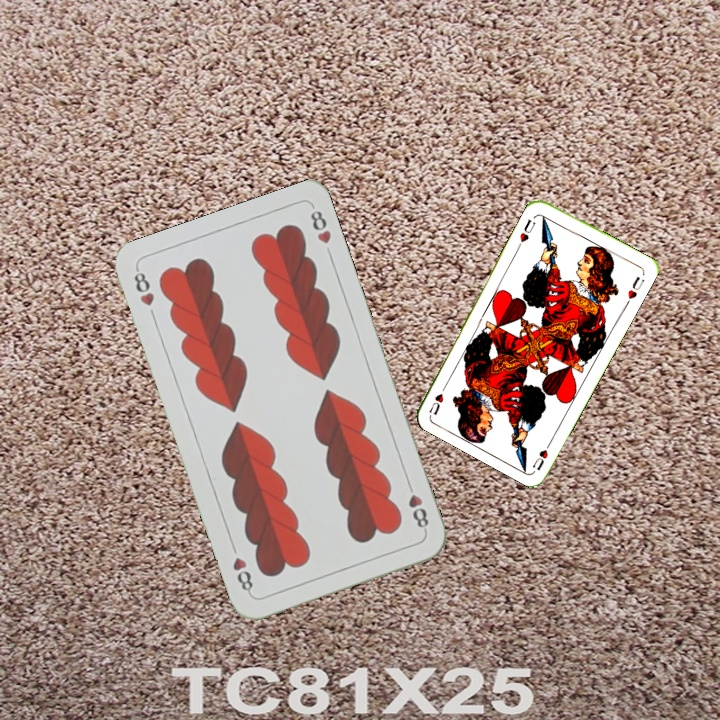H8: (402, 477, 432, 535), (129, 265, 157, 309)
HU: (529, 435, 555, 473), (516, 215, 538, 245)
